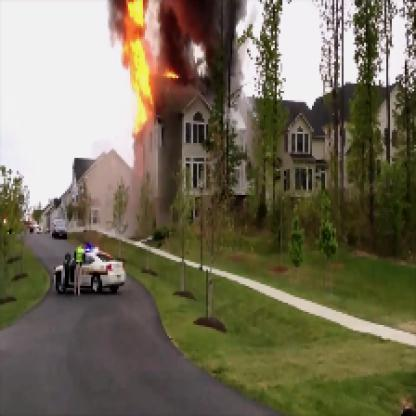Fire: (104, 2, 182, 137)
Smoke: (148, 2, 240, 108)
